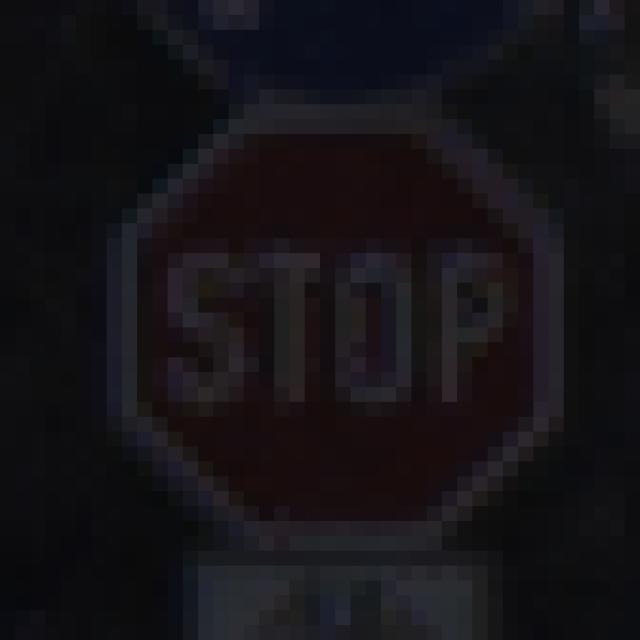STOP: (77, 76, 565, 567)
